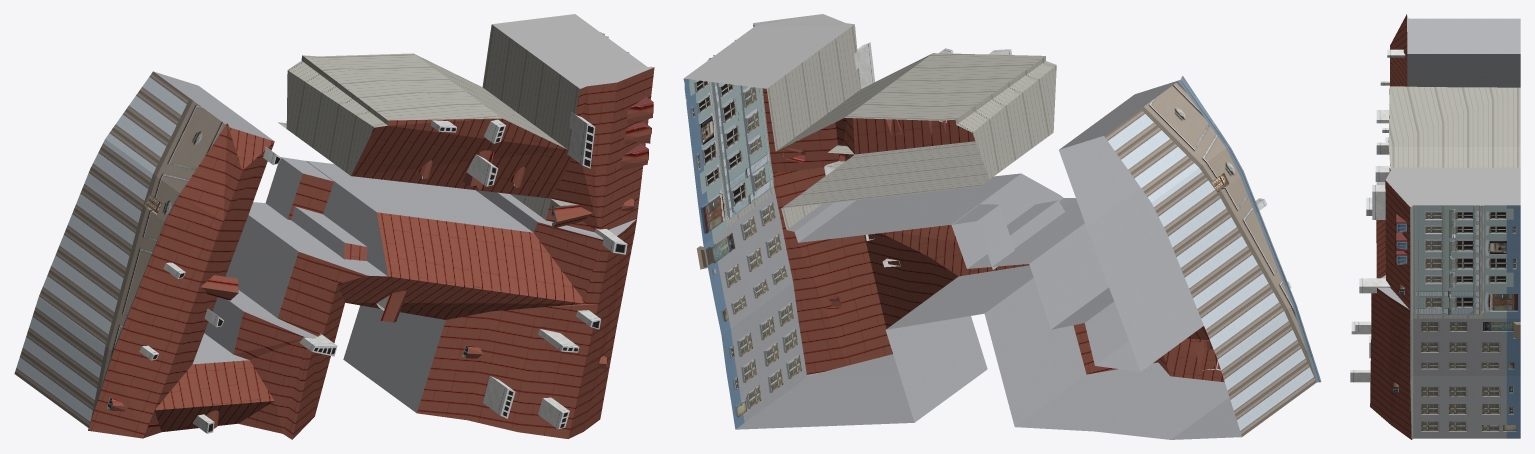
The model's file is Ryytli_4-origo.obj.
The picture shows the model from 3 angles, left to right: view 1: azimuth 30°, elevation 25°; view 2: azimuth 150°, elevation 25°; view 3: azimuth 270°, elevation 25°; orthographic projection. The views are drawn at different scales.
Parts seen in each view (by area): view 1: Ryytli_4; view 2: Ryytli_4; view 3: Ryytli_4.
Boxes of the visible parts, <box> form: Ryytli_4: <box>14,14,654,439</box>; Ryytli_4: <box>683,14,1321,439</box>; Ryytli_4: <box>1350,14,1520,439</box>.
Bounding box in the file's own units: 58.69 × 38.5 × 20.53.
